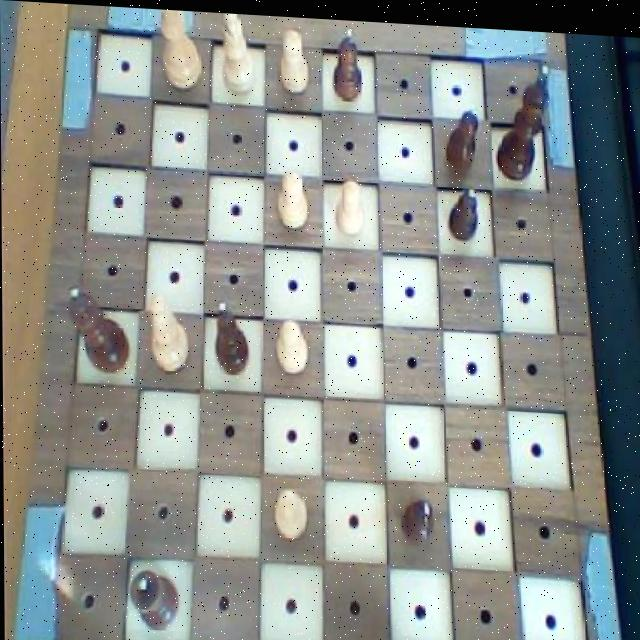black-bishop: (493, 55, 552, 181), (211, 296, 249, 377)
black-knight: (329, 22, 365, 99), (442, 99, 478, 166), (444, 178, 481, 239), (399, 489, 435, 543)
black-pawn: (66, 285, 132, 379)
black-queen: (125, 564, 180, 631)
black-rook: (145, 286, 191, 377), (216, 10, 259, 97)
white-bishop: (156, 7, 205, 91)
white-knight: (277, 22, 313, 97), (273, 165, 311, 232), (270, 481, 311, 540), (273, 313, 309, 376), (332, 172, 368, 234)
